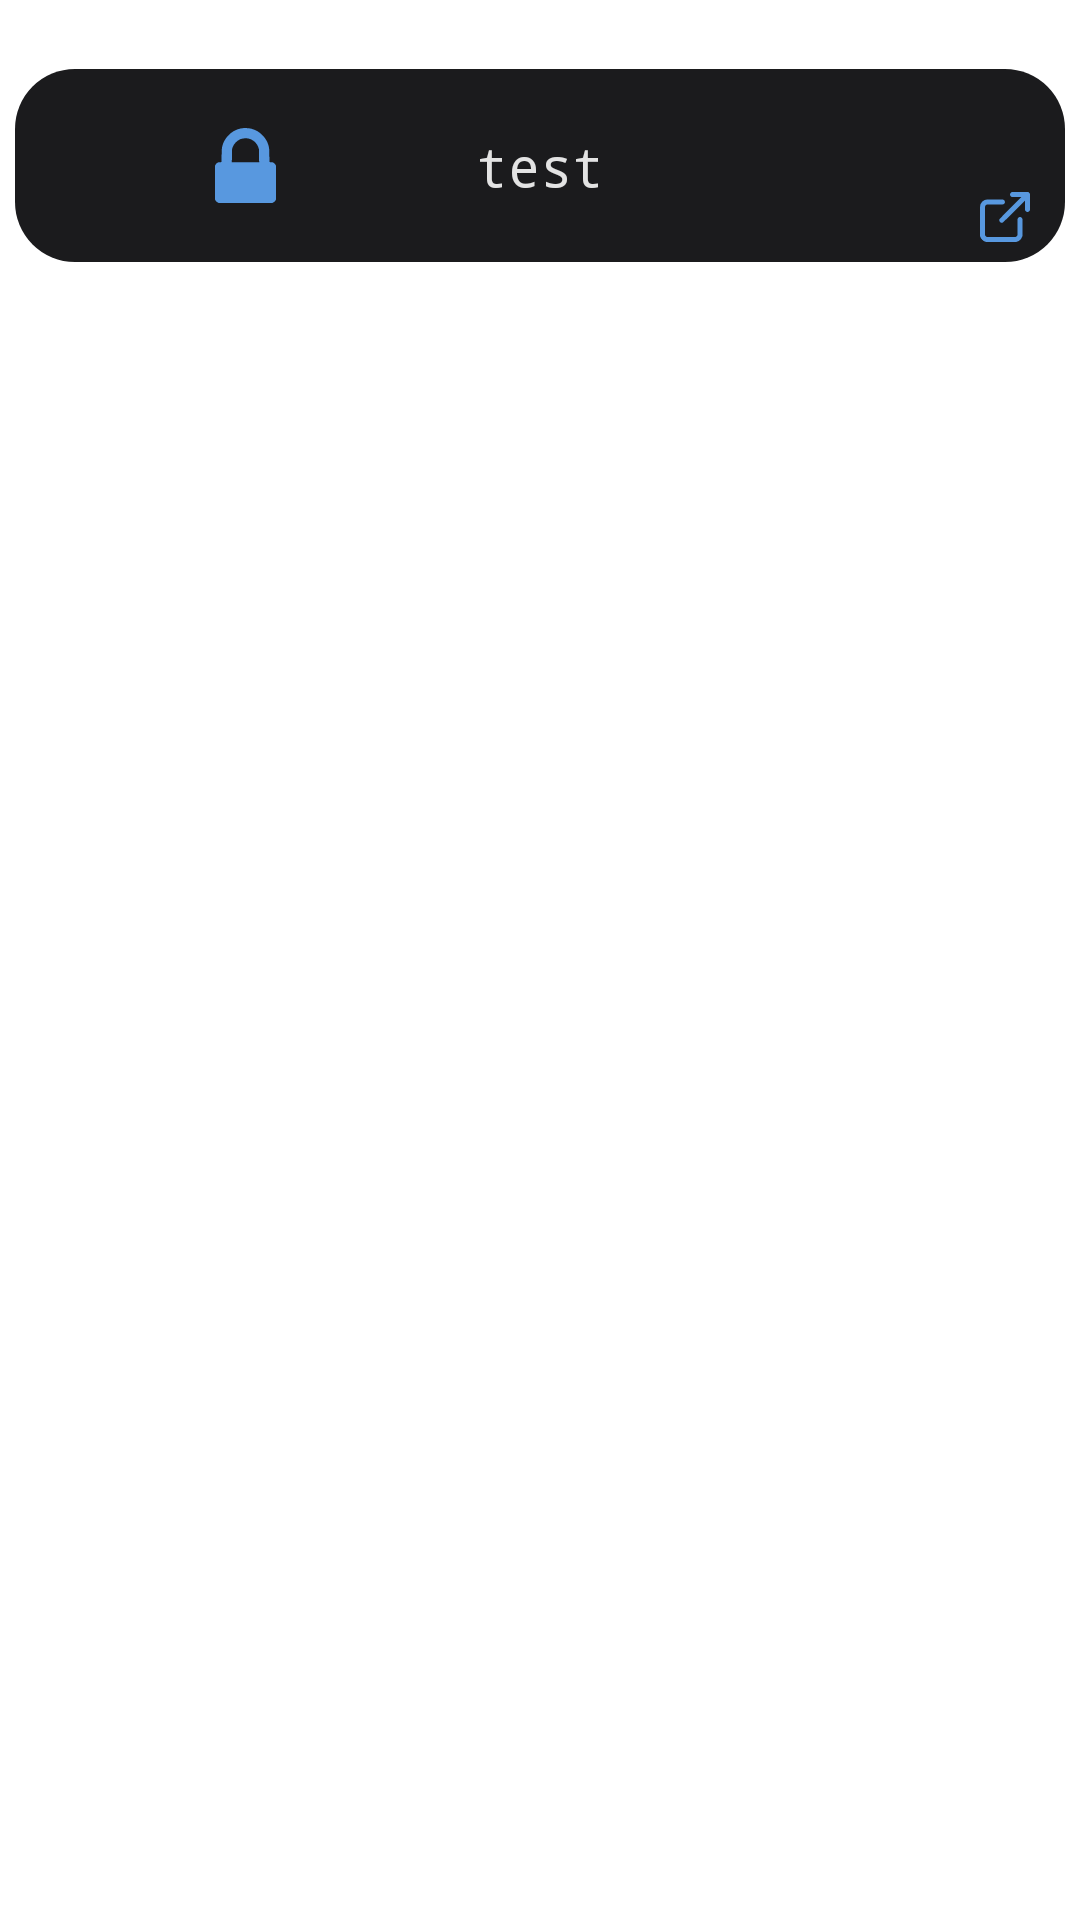

Named icons in this screenshot (1080 x 1920) and their centers, point (x, y):
padlock lock: point (245, 165)
